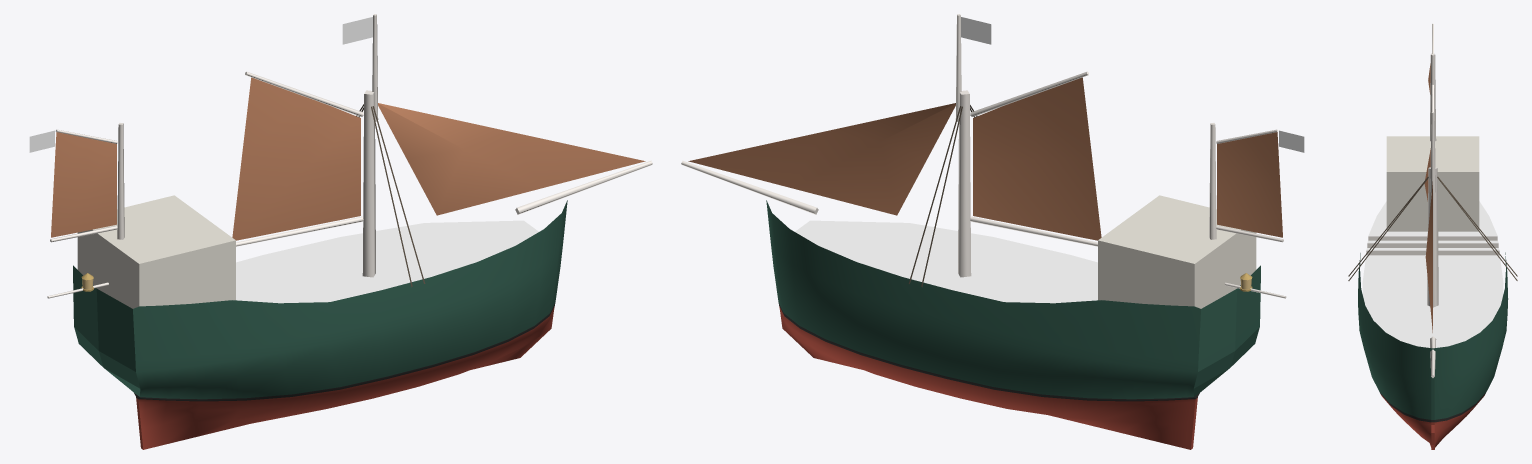
The model's file is trawler_v2_lod2.glb.
3 renders of one model, left to right at view 1: azimuth 30°, elevation 25°; view 2: azimuth 150°, elevation 25°; view 3: azimuth 270°, elevation 25°, orthographic. The views are drawn at different scales.
Visible parts, largest first — view 1: SM_Trawler_LOD2; view 2: SM_Trawler_LOD2; view 3: SM_Trawler_LOD2.
Boxes of the visible parts, x1,y1,x2,y2 form: SM_Trawler_LOD2: (29,14,652,449); SM_Trawler_LOD2: (681,14,1304,449); SM_Trawler_LOD2: (1348,23,1517,449).
Size of the model in its own units: 22.72 by 12.85 by 6.95.
